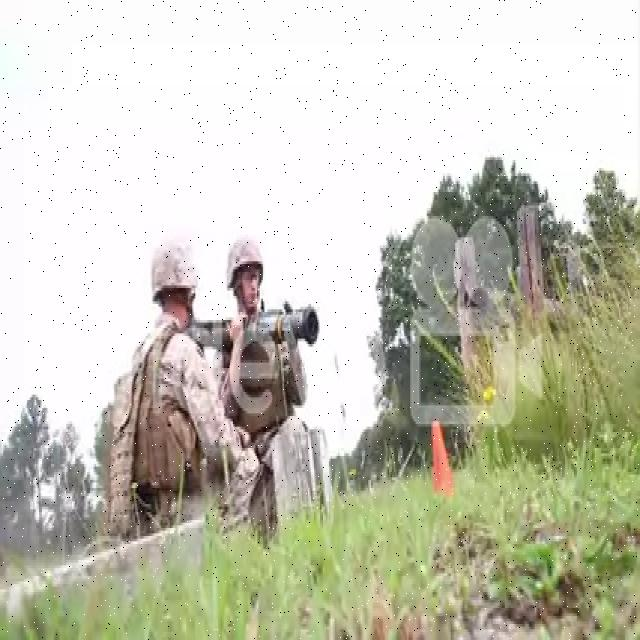bazooka: (195, 293, 323, 355)
